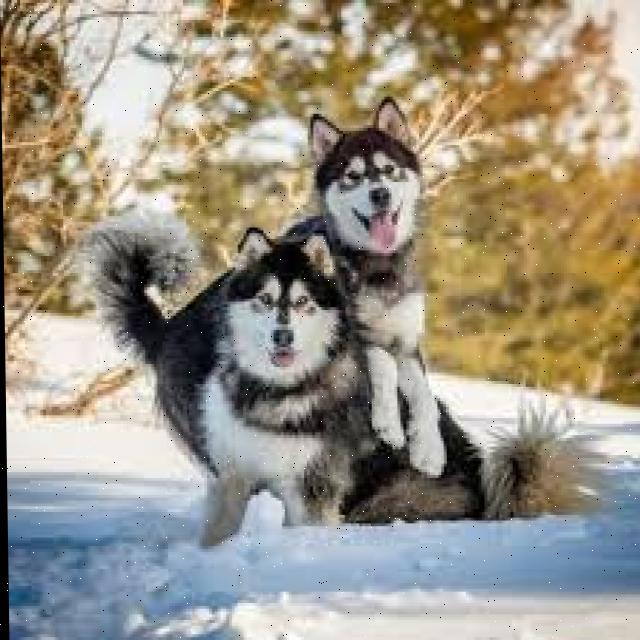ALASKAN_MALAMUTE: (165, 225, 626, 569), (67, 89, 467, 481)
